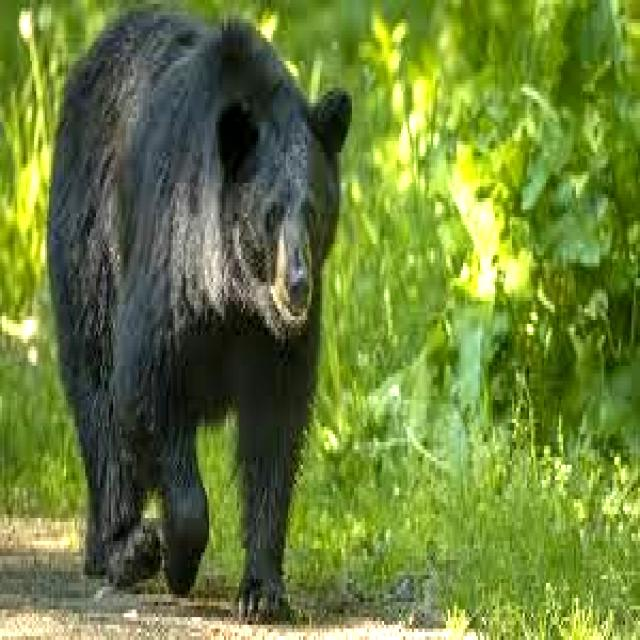bear: (42, 4, 350, 608)
